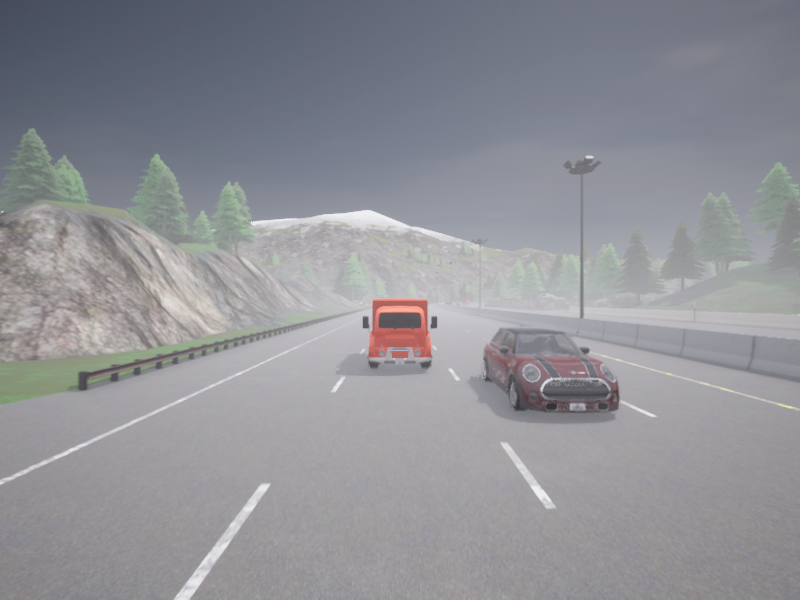vehicle: (482, 324, 619, 412), (362, 298, 437, 368), (463, 300, 469, 304), (446, 301, 452, 304), (455, 303, 459, 305)
